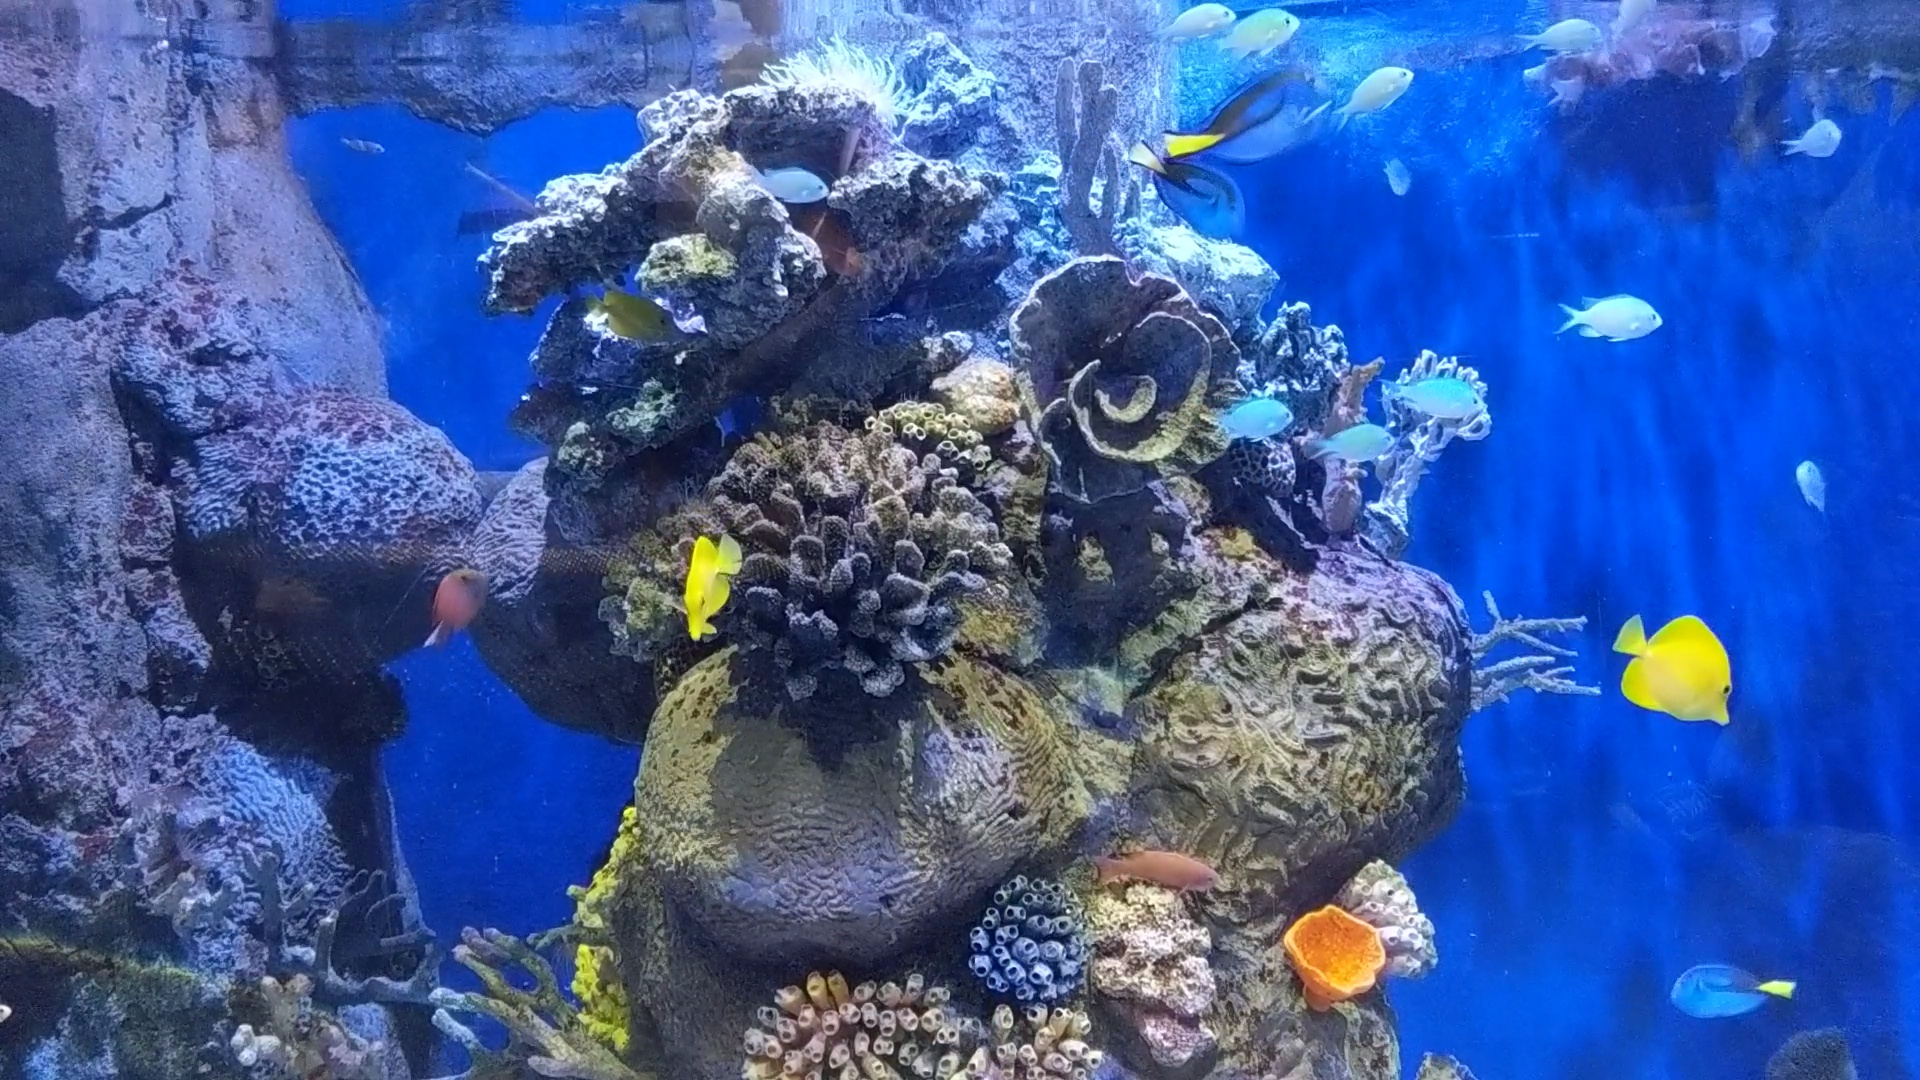blue tang surgeonfish: (1155, 65, 1353, 164), (1114, 135, 1267, 252), (1652, 947, 1803, 1030)
damselfish: (1299, 28, 1437, 123), (1369, 338, 1495, 433), (1193, 392, 1303, 468), (1520, 294, 1668, 339), (1212, 7, 1335, 58), (1775, 458, 1855, 531), (1373, 148, 1458, 208), (1299, 422, 1394, 473), (1503, 18, 1600, 69), (1779, 105, 1849, 170), (741, 162, 840, 206), (1153, 0, 1236, 40), (336, 131, 411, 167)
saddle butterfly fish: (1611, 615, 1754, 736), (575, 273, 700, 364), (676, 524, 752, 655)
